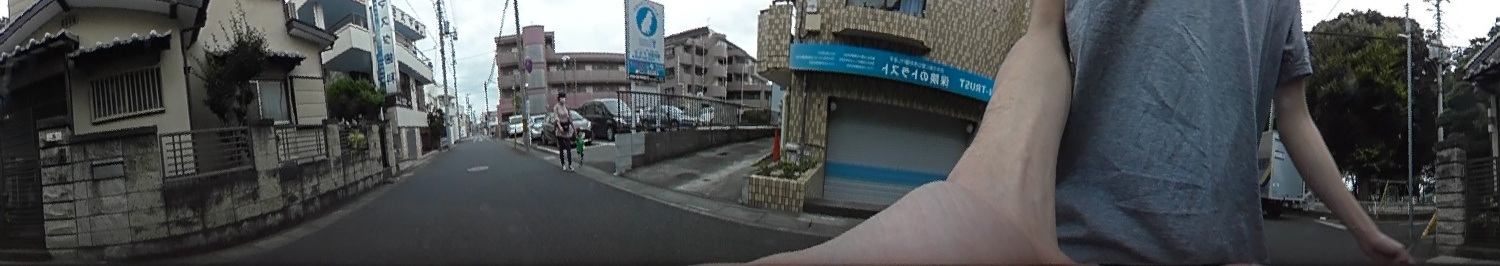person: (548, 91, 575, 173)
